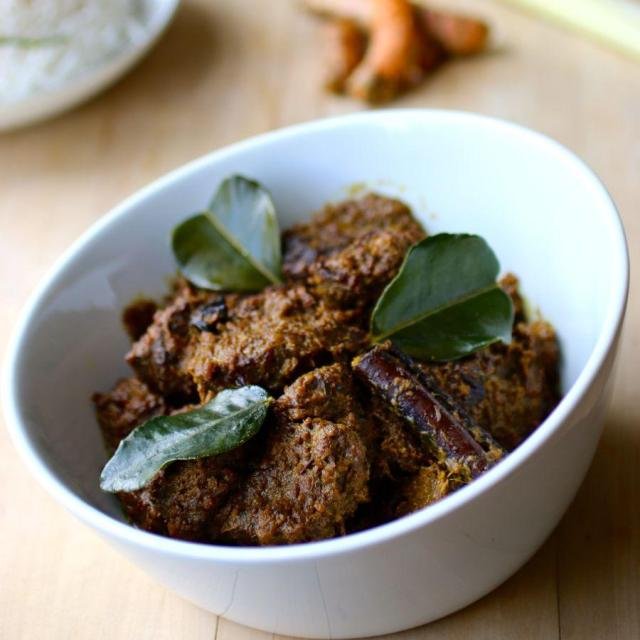Rendang: (82, 199, 564, 536)
